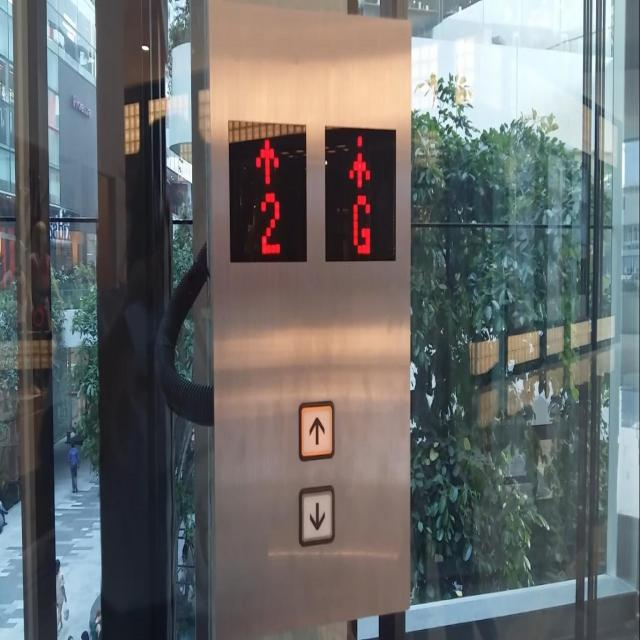down: (298, 486, 335, 545)
led: (228, 119, 307, 263), (325, 126, 396, 262)
up: (299, 401, 334, 460)
